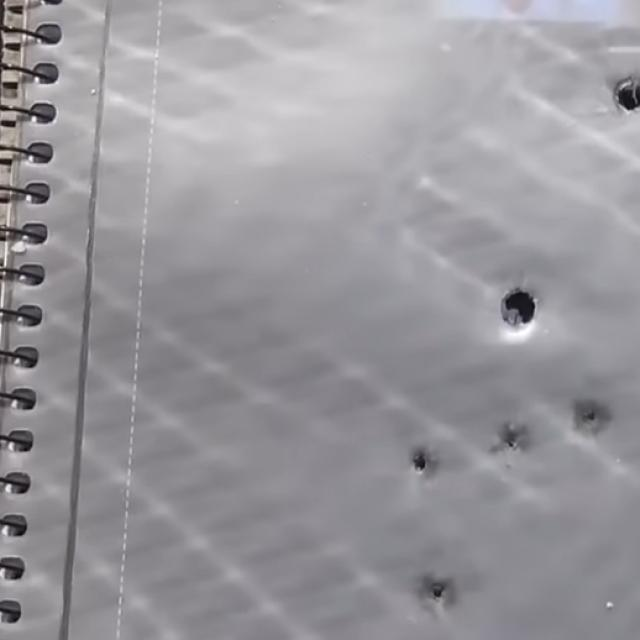bullets: (416, 568, 467, 617), (498, 284, 546, 334), (570, 401, 610, 443), (492, 425, 530, 465), (608, 75, 640, 118), (407, 447, 443, 481)
